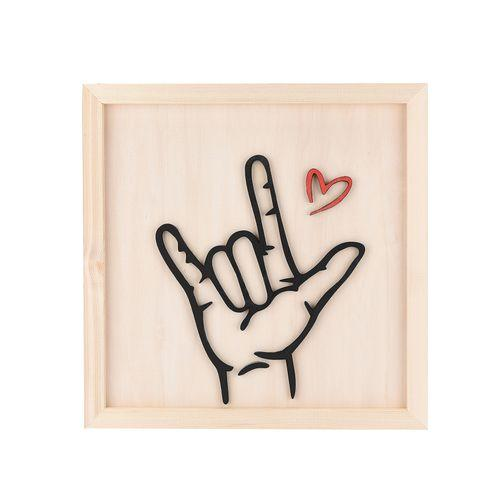Love_you: (149, 149, 362, 408)
